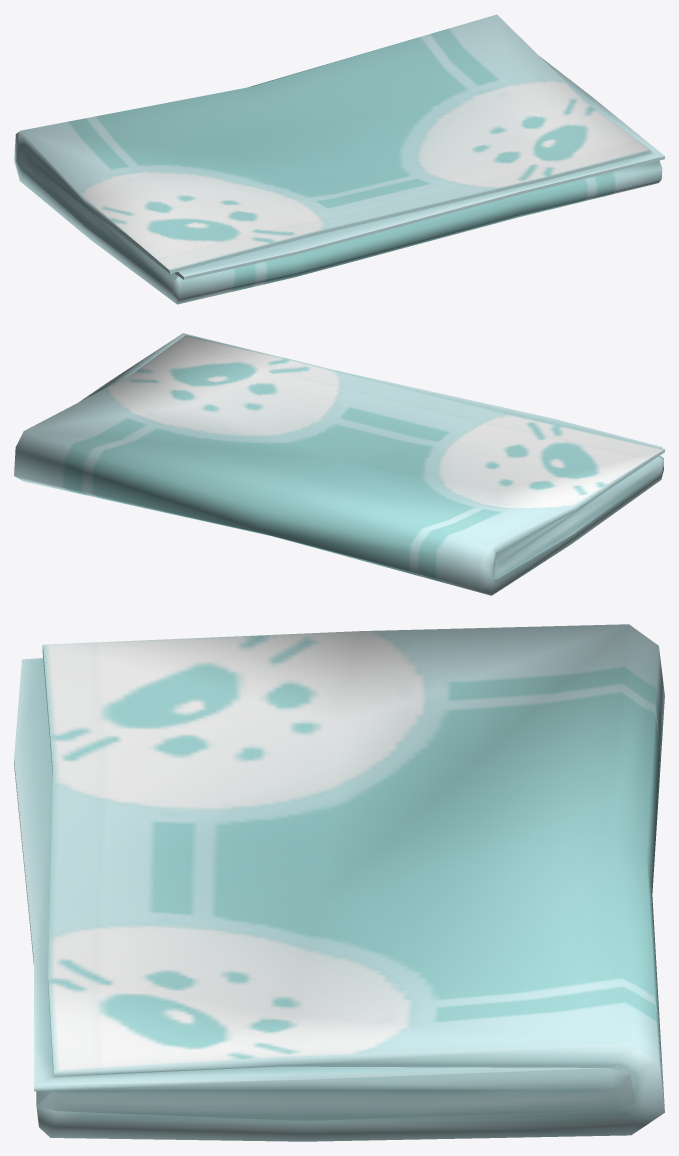
Rendered from set_longtowel_02.fbx.
3 views of the same model, one above another, from view 1: azimuth 30°, elevation 25°; view 2: azimuth 150°, elevation 25°; view 3: azimuth 270°, elevation 25° (orthographic). The views are drawn at different scales.
Visible parts, largest first — view 1: set_longtowel_02; view 2: set_longtowel_02; view 3: set_longtowel_02.
Boxes of the visible parts, box(x1,y1,x2,y2) form: set_longtowel_02: box(14, 14, 664, 304); set_longtowel_02: box(14, 333, 664, 595); set_longtowel_02: box(14, 624, 664, 1141).
Size of the model in its own units: 31.63 by 3.21 by 19.98.
